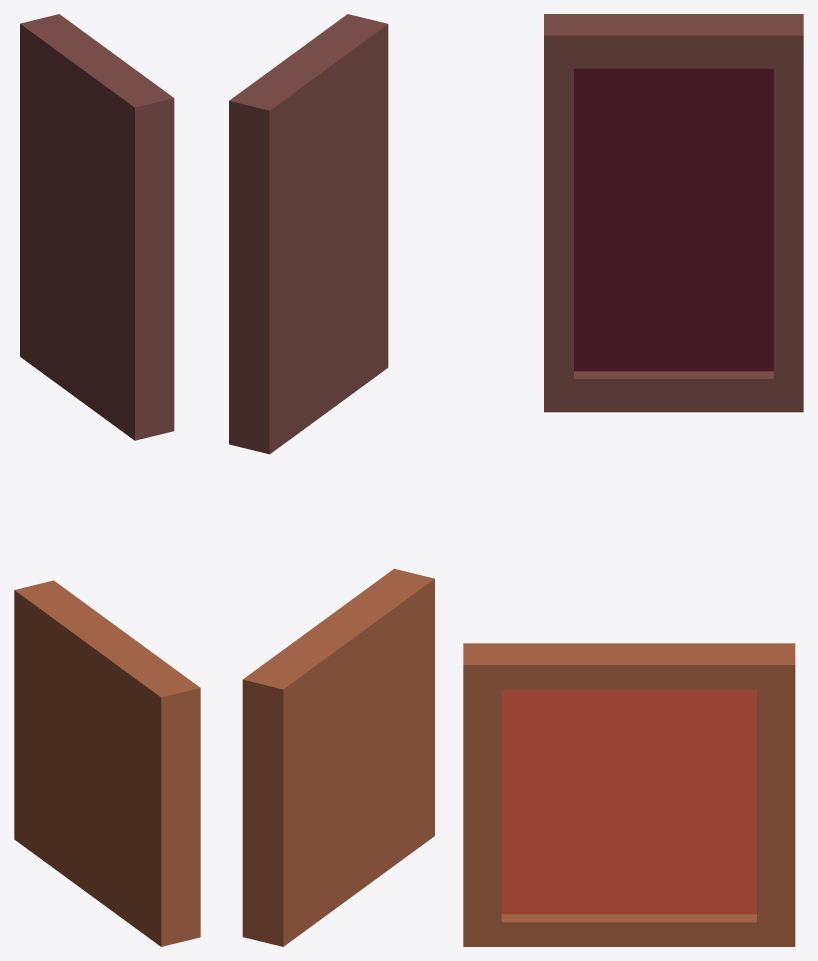
Rendered from quadros-vazios.fbx.
3 renders of one model, left to right at view 1: azimuth 30°, elevation 25°; view 2: azimuth 150°, elevation 25°; view 3: azimuth 270°, elevation 25°, orthographic. The views are drawn at different scales.
Parts seen in each view (by area): view 1: Cube.136, Cube.138; view 2: Cube.136, Cube.138; view 3: Cube.136, Cube.138.
Part boxes in pixels (<box>): Cube.136: <box>20,14,174,440</box>; Cube.138: <box>14,580,200,946</box>; Cube.136: <box>229,14,388,454</box>; Cube.138: <box>242,568,434,946</box>; Cube.136: <box>544,14,803,412</box>; Cube.138: <box>463,643,795,946</box>.
Bounding box in the file's own units: 10.77 × 171 × 57.58.
